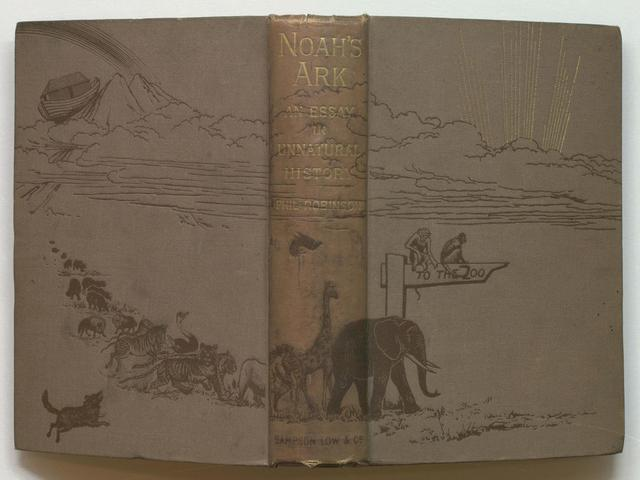elephant: (316, 301, 471, 421)
